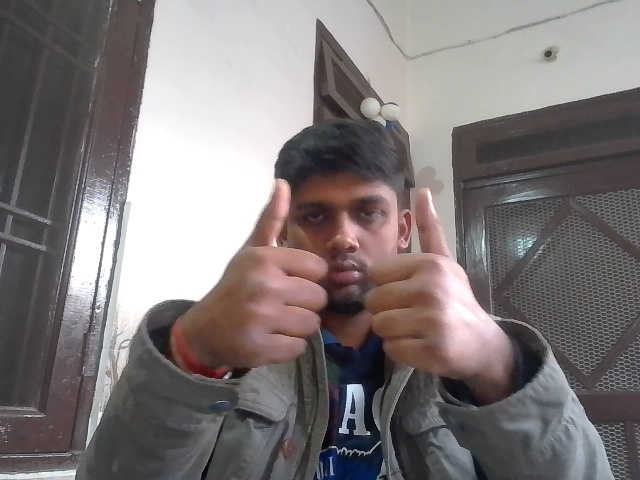Excellent: (202, 179, 482, 390)
